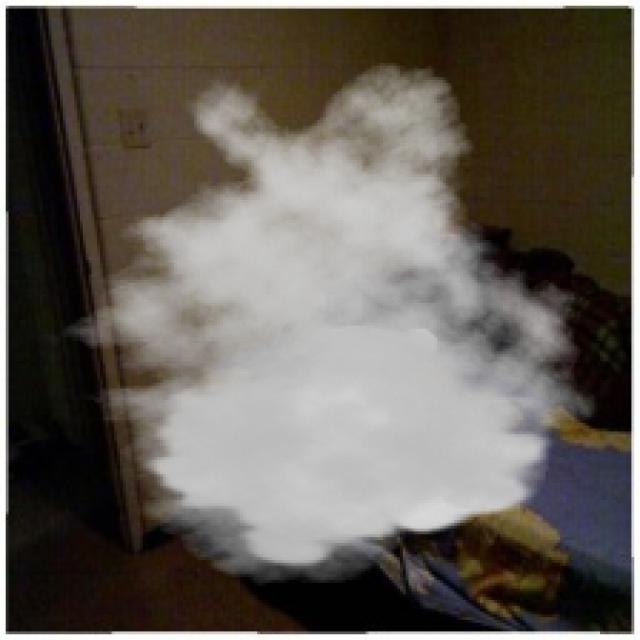smoke: (37, 60, 606, 586)
